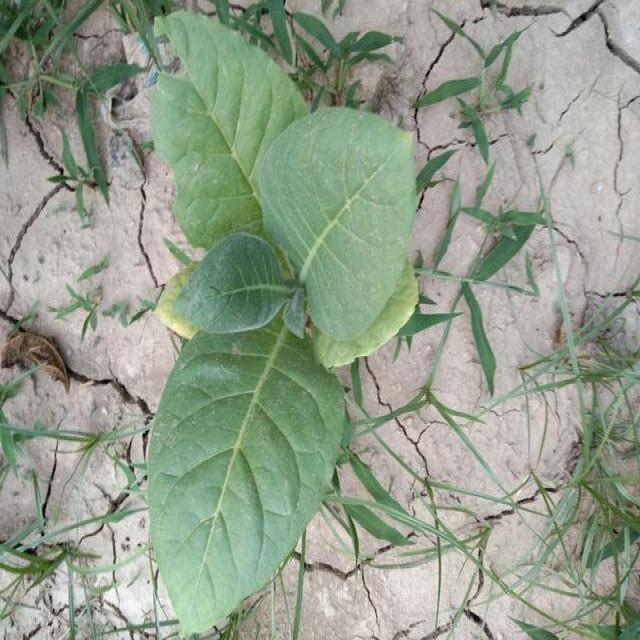crop: (153, 15, 419, 640)
